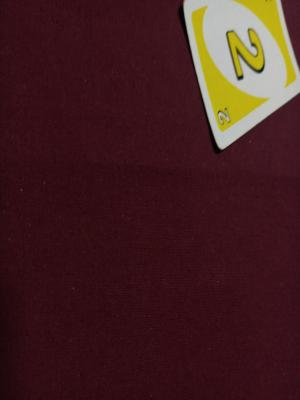num_2: (220, 23, 275, 82)
yellow: (215, 89, 233, 132)
